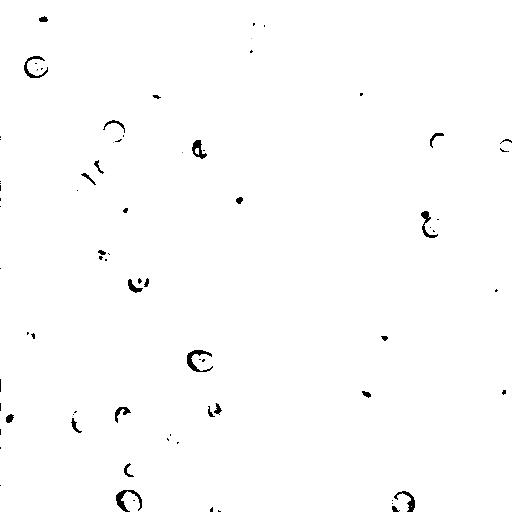micro-algae: (262, 2, 358, 96), (374, 109, 466, 198), (125, 350, 187, 410), (0, 125, 42, 197), (381, 480, 439, 512), (185, 125, 229, 167), (164, 142, 201, 181), (112, 199, 148, 236), (86, 149, 119, 184), (28, 254, 61, 289), (99, 485, 135, 512), (233, 315, 263, 345), (479, 378, 512, 405), (69, 172, 100, 199), (245, 13, 273, 41), (186, 349, 217, 374), (234, 37, 262, 63), (410, 200, 438, 226), (373, 323, 402, 348), (127, 264, 150, 295), (70, 406, 95, 433), (30, 8, 58, 32), (0, 406, 25, 432), (115, 489, 143, 512), (19, 325, 44, 350), (345, 81, 371, 105), (483, 272, 510, 295), (24, 56, 49, 80), (143, 437, 166, 463), (390, 490, 417, 512), (103, 120, 126, 145), (261, 104, 284, 127), (421, 215, 443, 239), (355, 383, 379, 404), (92, 241, 112, 265), (113, 405, 133, 426), (189, 139, 210, 159), (429, 131, 448, 152), (368, 0, 401, 12), (123, 0, 149, 15), (165, 427, 186, 445), (123, 461, 145, 478), (229, 194, 251, 208), (206, 401, 223, 419), (446, 79, 461, 94), (498, 138, 512, 154), (208, 502, 230, 512), (490, 0, 511, 10), (61, 0, 84, 6)
